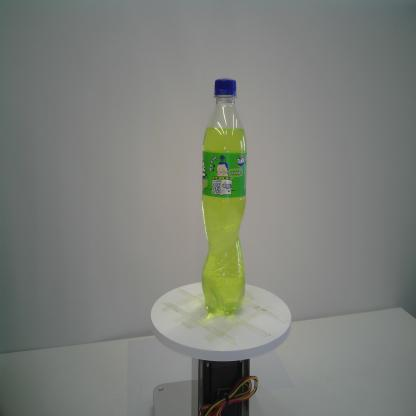Drink: (201, 78, 247, 317)
